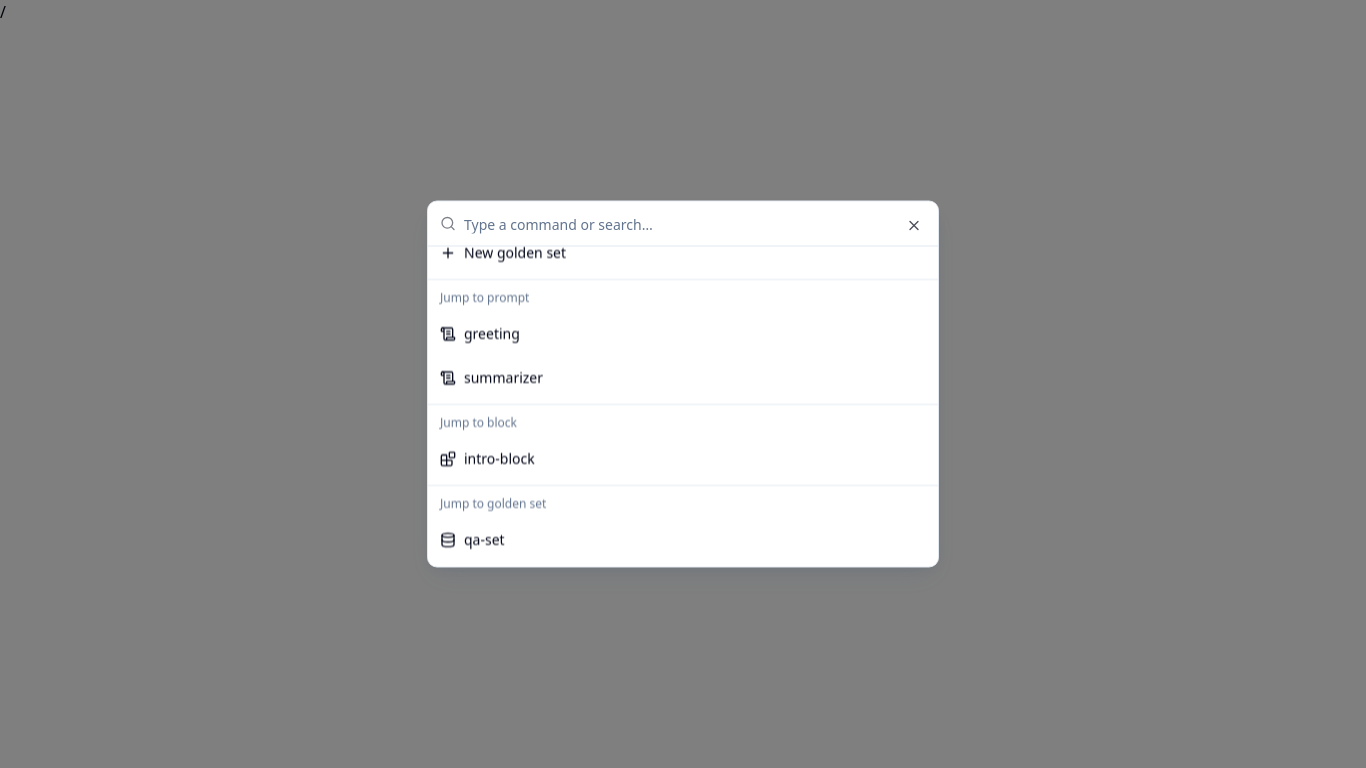
Test case: CommandPalette › jumps to a block detail page and closes
(page scrolled)
Click the option "intro-block".
click(487, 459)  # box top-left (440, 450), bottom-right (535, 468)
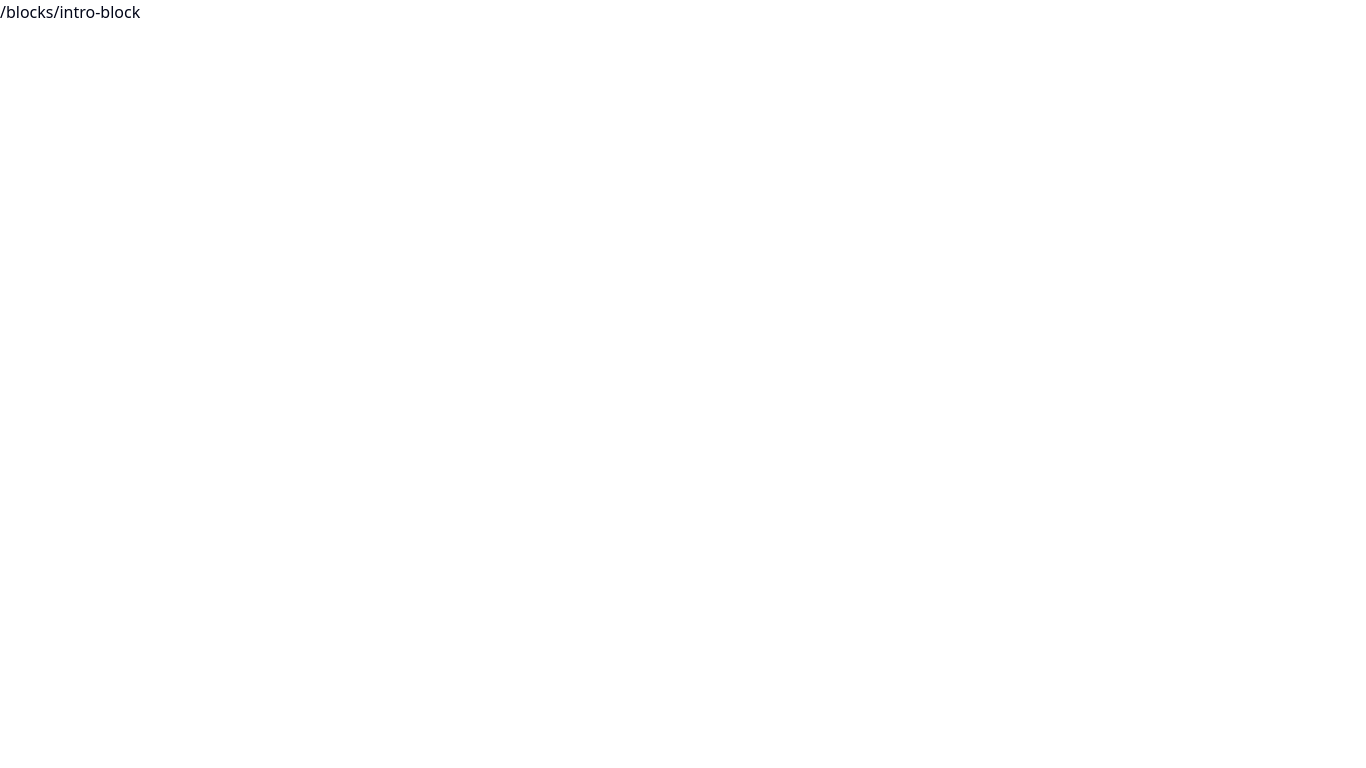
Expected: the text with test id "location" reads "/blocks/intro-block", top-left (0, 1), bottom-right (140, 23)
